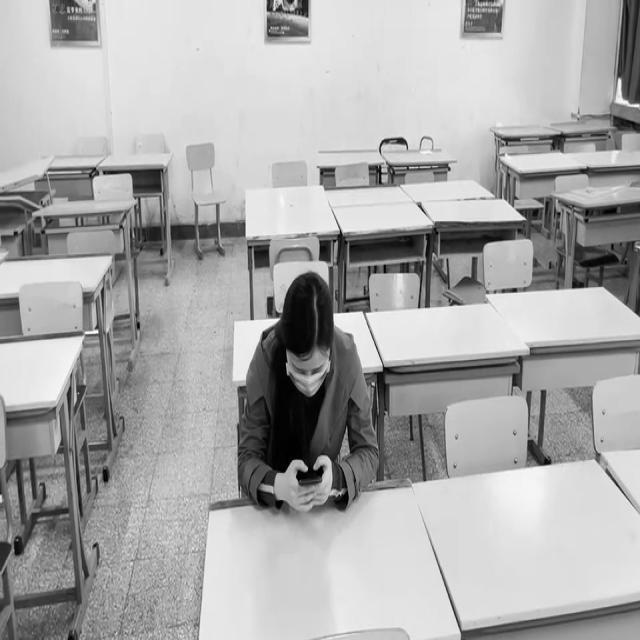phone: (238, 272, 379, 509)
